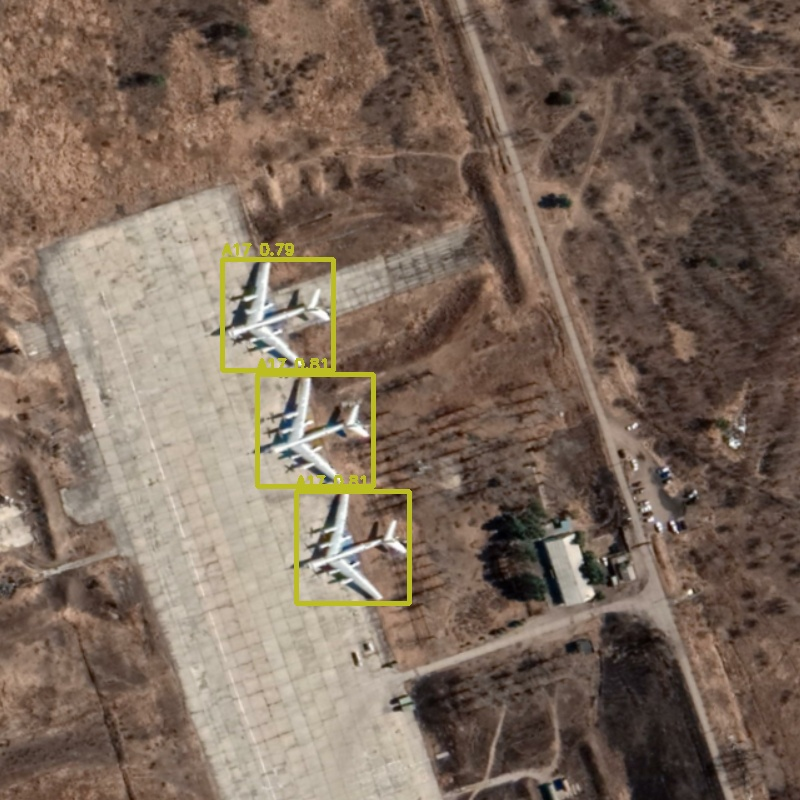A17: (257, 374, 373, 486), (296, 491, 409, 603), (222, 259, 333, 370)
